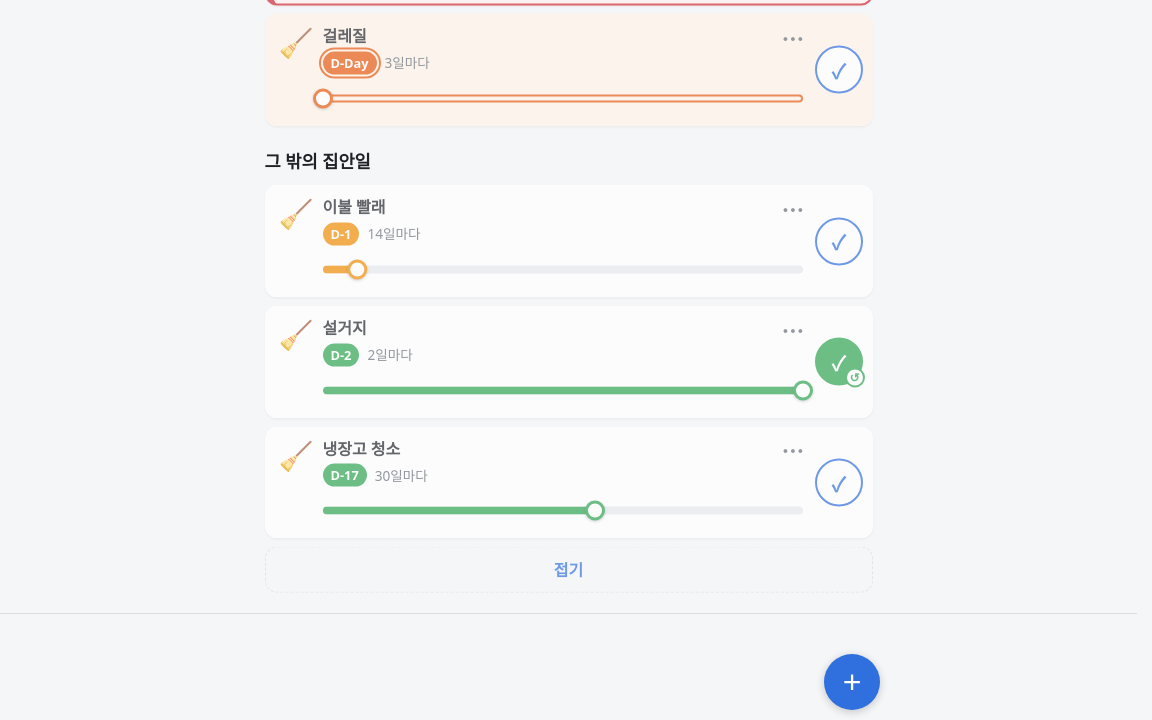
Test: 완료 체크 (F3) › 오늘 완료 취소 (U6) › 완료 취소를 실행 취소하면 다시 완료로 POST하고 오늘 완료함으로 돌아간다
The width and height of the screenshot is (1152, 720).
(page scrolled)
Click the button "✓ ↺".
click(838, 360)  # box [814,336,862,384]
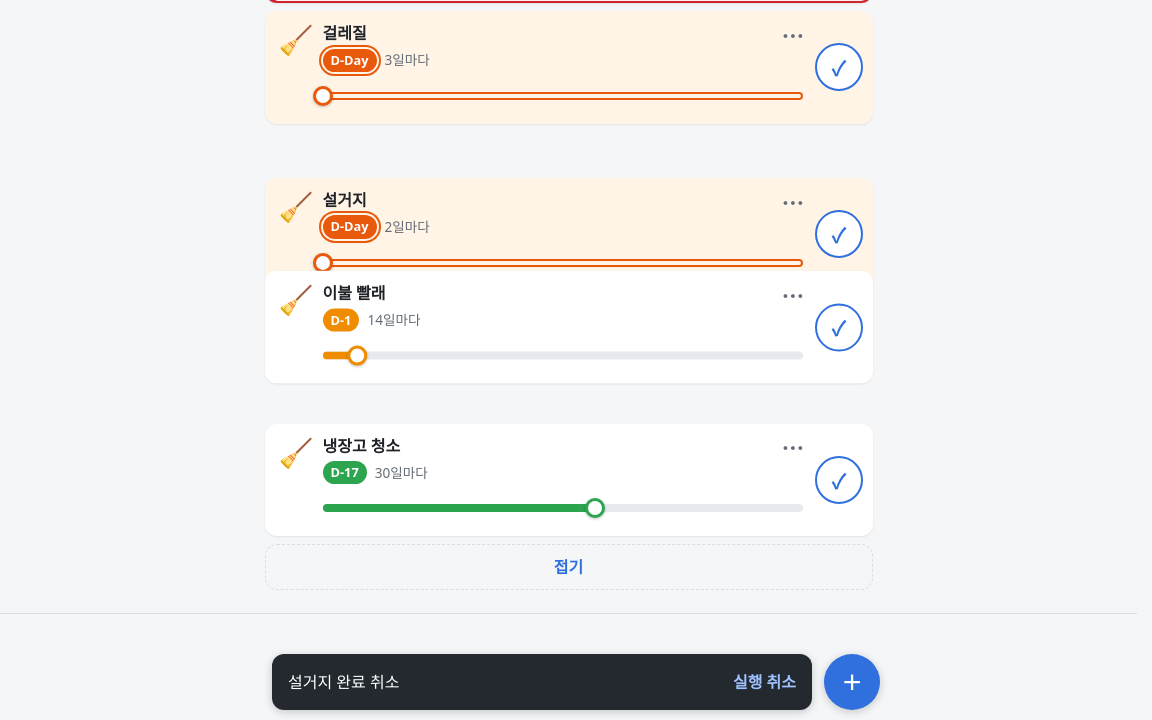
Click the button "실행 취소".
click(764, 682)  # box [721,660,808,704]
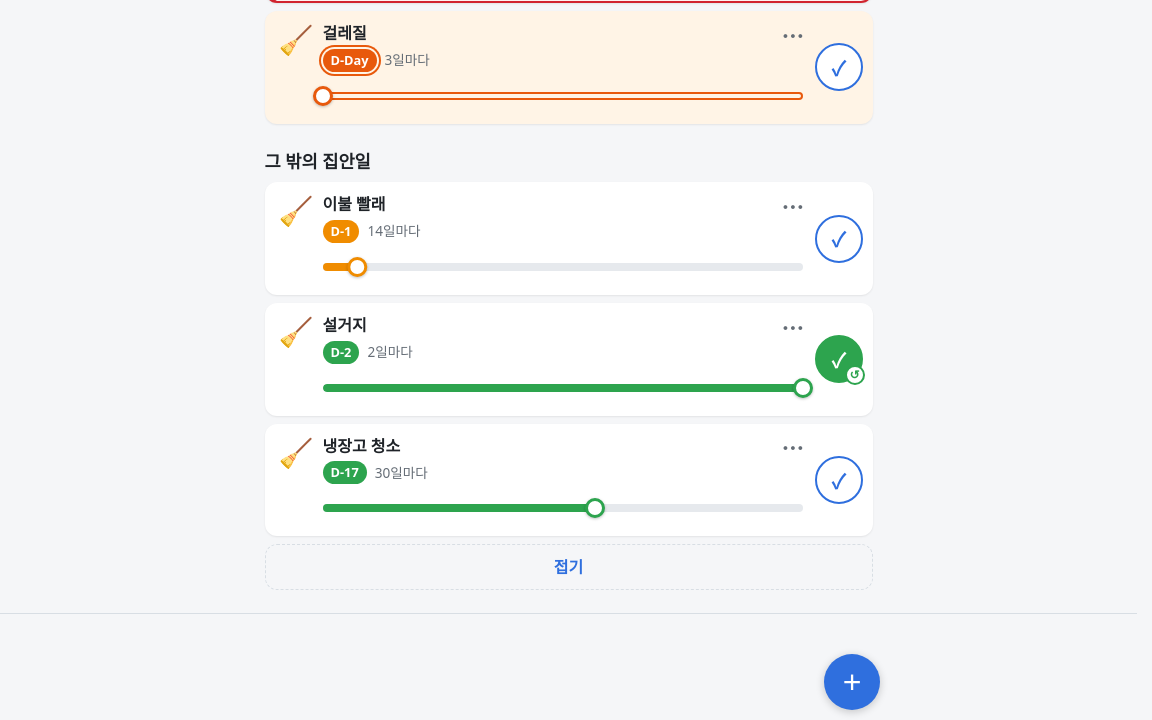
Check: the text with class "badge__text" reads "D-2", box [330,342,351,360]
Check: the element with test id "undo-toast" is gone
